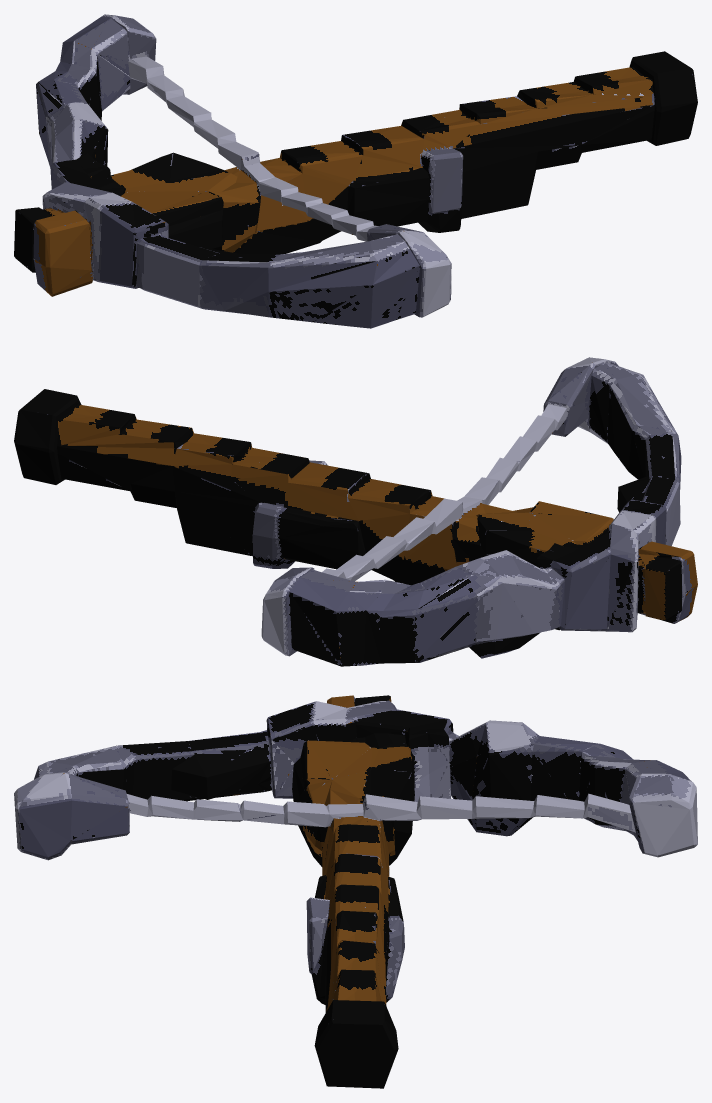
3 views of the same model, one above another, from view 1: azimuth 30°, elevation 25°; view 2: azimuth 150°, elevation 25°; view 3: azimuth 270°, elevation 25° (orthographic). The views are drawn at different scales.
Parts seen in each view (by area): view 1: OBJ01a; view 2: OBJ01a; view 3: OBJ01a.
Boxes of the visible parts, bbox=[...] form: OBJ01a: bbox=[14, 14, 697, 328]; OBJ01a: bbox=[14, 357, 697, 666]; OBJ01a: bbox=[14, 695, 697, 1088].
Bounding box in the file's own units: 0.4153 × 0.0885 × 0.3643.
1 material, 1 textured.
